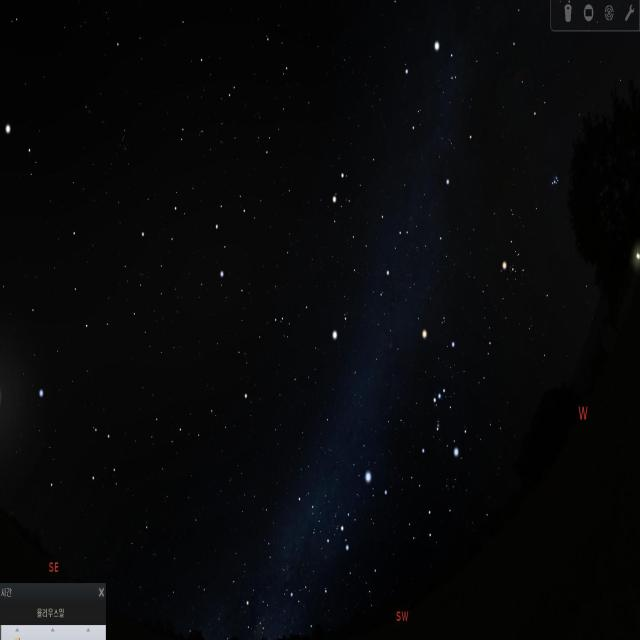canis_major: (330, 456, 399, 569)
canis_minor: (328, 302, 356, 349)
gemini: (328, 151, 412, 300)
leo: (137, 189, 260, 292)
orion: (414, 327, 466, 469)
pleiades: (547, 165, 564, 191)
taurus: (494, 144, 568, 296)
